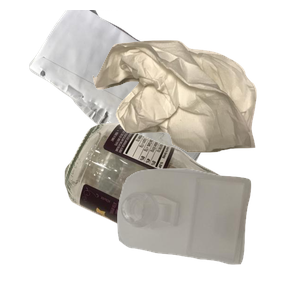glass: (62, 120, 300, 300)
paper: (27, 10, 252, 187)
plastic: (115, 166, 300, 300)
trash: (90, 38, 300, 183)
